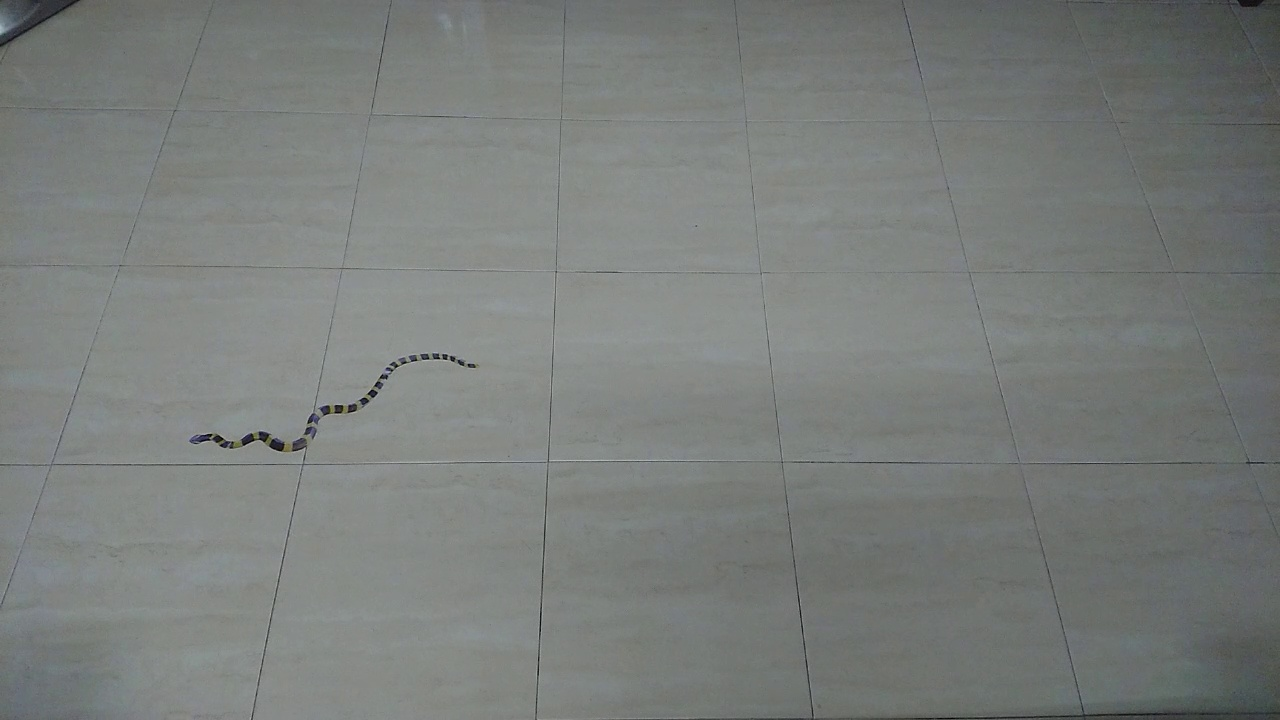snake: (173, 341, 499, 467)
